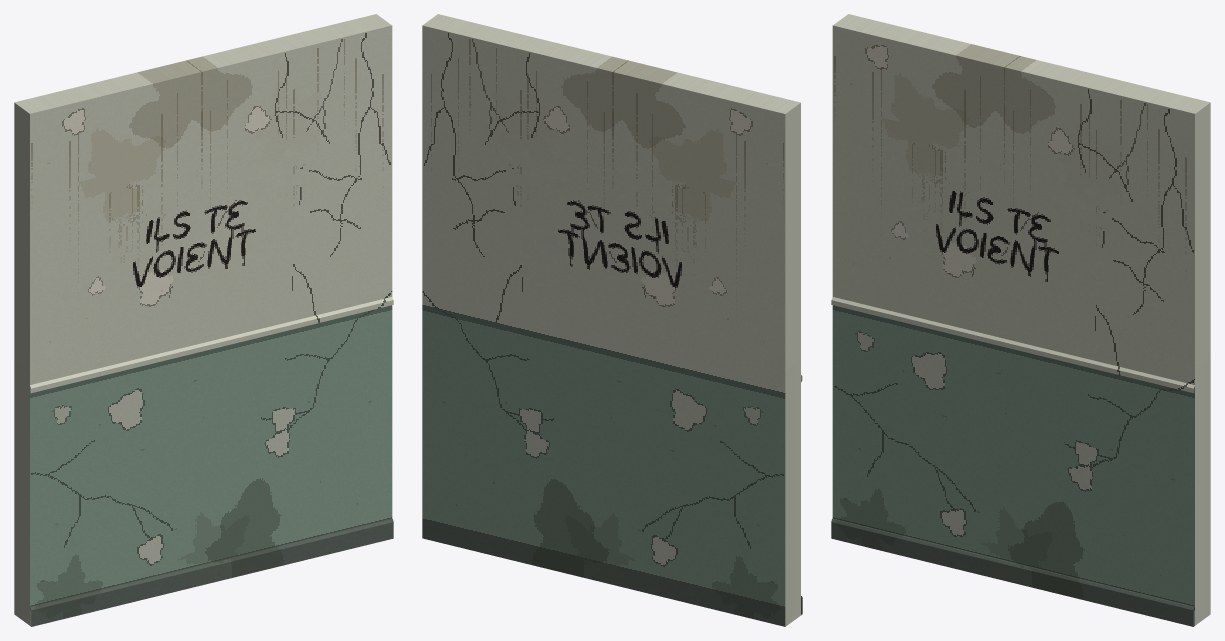
The model's file is wall_4_ils_te_voient.glb.
The picture shows the model from 3 angles, left to right: view 1: azimuth 30°, elevation 25°; view 2: azimuth 150°, elevation 25°; view 3: azimuth 330°, elevation 25°; orthographic projection.
Visible parts, largest first — view 1: wall_body; view 2: wall_body; view 3: wall_body.
Boxes of the visible parts, x1=… form: wall_body: x1=14, y1=14, x2=393, y2=626; wall_body: x1=422, y1=14, x2=802, y2=626; wall_body: x1=831, y1=14, x2=1210, y2=626.
Size of the model in its own units: 2 by 2.7 by 0.1656.
1 material, 1 textured.
